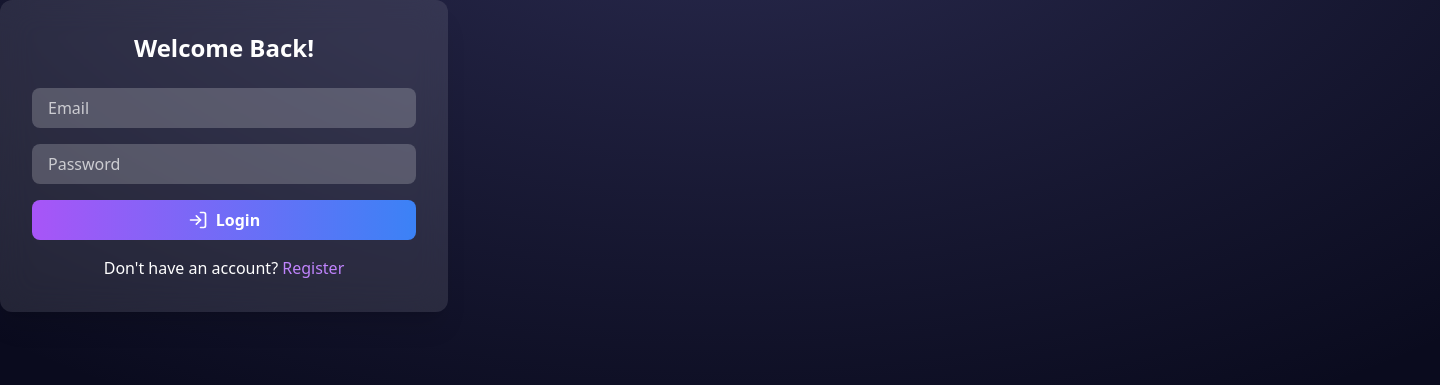
Test: AuthForm Component › switches to registration form
Step 1. Click the button "Register" → (313, 268), box [282, 256, 344, 280]
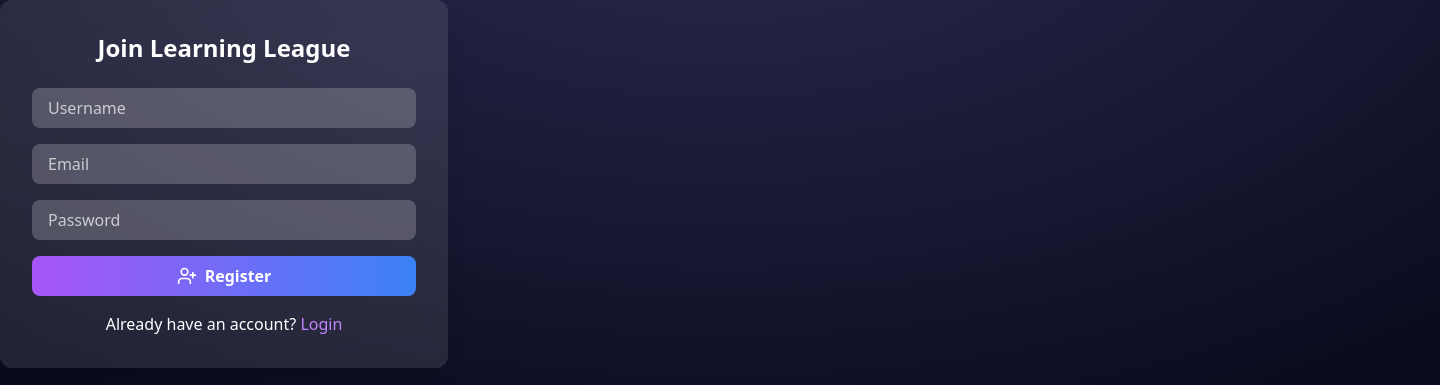
Now the heading "Join Learning League" is shown, box [98, 31, 350, 64]
Now the field with placeholder "Username" is shown, box [32, 88, 416, 128]
